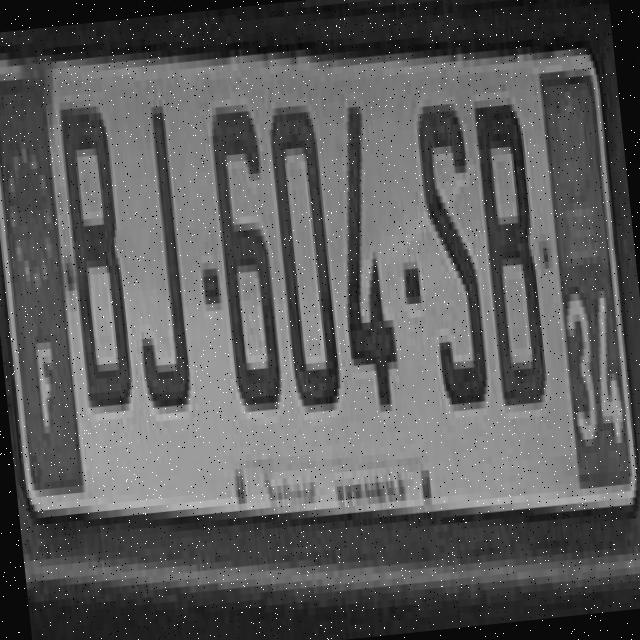EU: (0, 0, 640, 572)
France: (0, 62, 84, 497)
